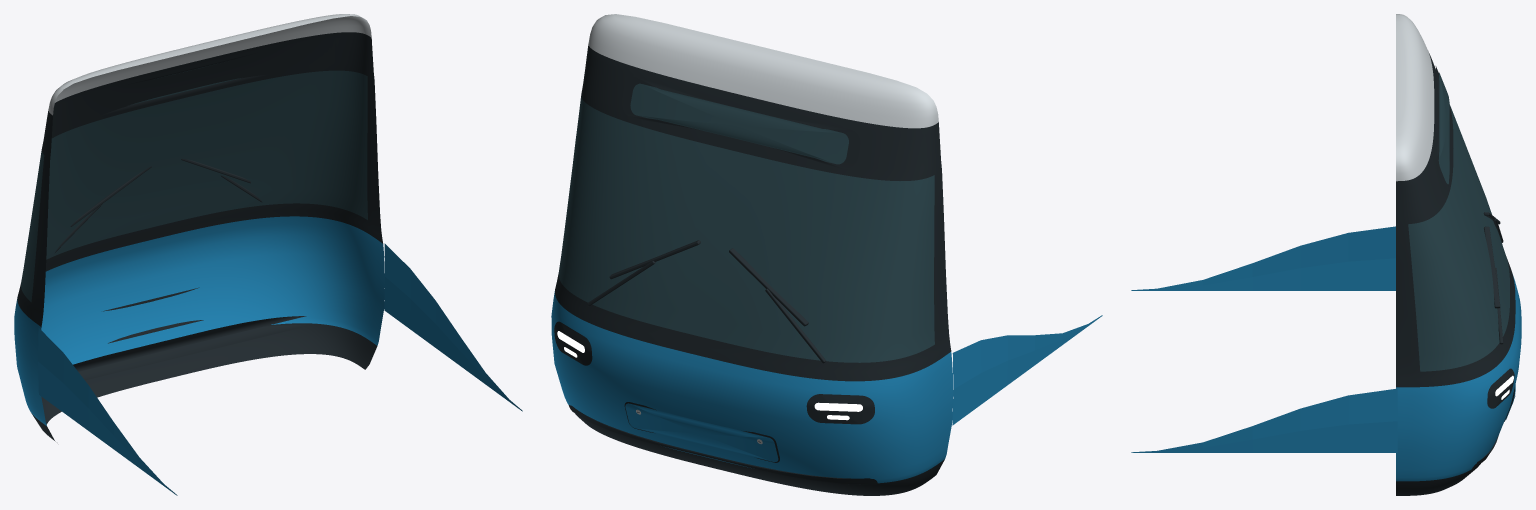
Rendered from tram_cab.glb.
The picture shows the model from 3 angles, left to right: view 1: azimuth 30°, elevation 25°; view 2: azimuth 150°, elevation 25°; view 3: azimuth 270°, elevation 25°; orthographic projection. The views are drawn at different scales.
Visible parts, largest first — view 1: Swept cab shell, Swept blue flank.001, Swept blue flank, Skirt rubbing strip, Route indicator surround, Access door gasket; view 2: Swept cab shell, Amber matrix panel, Swept blue flank, Lower service hatch, Route indicator surround, Skirt rubbing strip, Recessed lamp cluster, Recessed lamp cluster.001, Wiper blade; view 3: Swept cab shell, Swept blue flank, Swept blue flank.001, Amber matrix panel, Recessed lamp cluster.001, Wiper blade.001.
Part boxes in pixels (x1,y1,x2,y2): Swept cab shell: (14, 14, 384, 441); Swept blue flank.001: (384, 243, 522, 411); Swept blue flank: (38, 328, 177, 495); Skirt rubbing strip: (73, 316, 308, 380); Route indicator surround: (101, 49, 268, 115); Access door gasket: (103, 287, 203, 343); Swept cab shell: (551, 14, 953, 495); Amber matrix panel: (630, 83, 848, 164); Swept blue flank: (952, 315, 1102, 425); Lower service hatch: (625, 403, 778, 461); Route indicator surround: (622, 77, 860, 168); Skirt rubbing strip: (568, 405, 877, 485); Recessed lamp cluster: (806, 394, 874, 424); Recessed lamp cluster.001: (554, 321, 592, 365); Wiper blade: (729, 248, 808, 326); Swept cab shell: (1396, 14, 1521, 495); Swept blue flank: (1131, 226, 1395, 290); Swept blue flank.001: (1131, 388, 1397, 452); Amber matrix panel: (1438, 72, 1449, 184); Recessed lamp cluster.001: (1487, 368, 1514, 408); Wiper blade.001: (1484, 226, 1500, 308).
Bounding box in the file's own units: 2.42 × 2.4 × 2.45.
